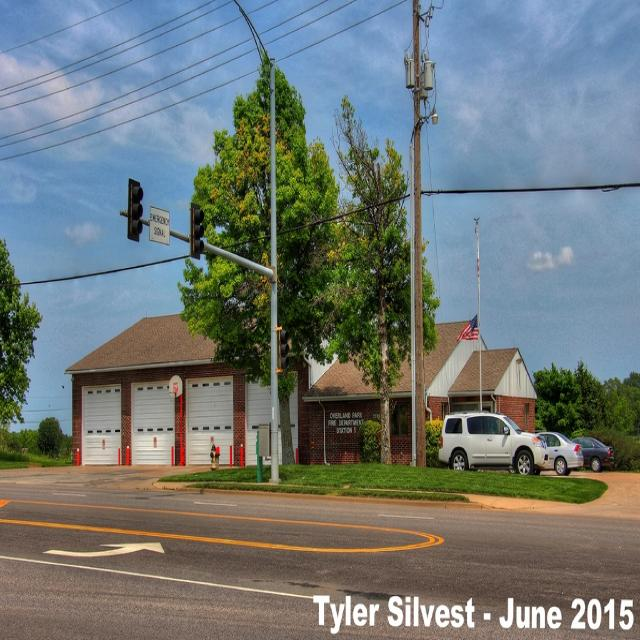car: (433, 404, 548, 476), (571, 426, 614, 481), (534, 430, 579, 472)
